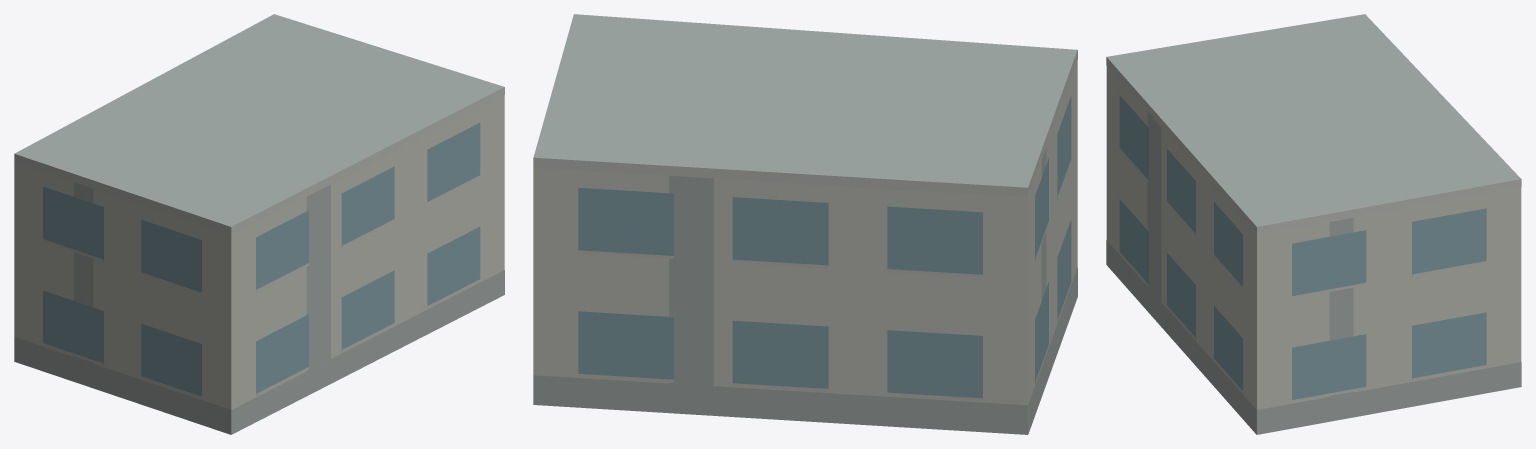
File: survey-upis-32865593.glb
3 views of the same model, side by side, from view 1: azimuth 30°, elevation 25°; view 2: azimuth 150°, elevation 25°; view 3: azimuth 270°, elevation 25° (orthographic). The views are drawn at different scales.
Visible parts, largest first — view 1: survey-upis-32865593.tmp; view 2: survey-upis-32865593.tmp; view 3: survey-upis-32865593.tmp.
Boxes of the visible parts, x1,y1,x2,y2 form: survey-upis-32865593.tmp: [14, 14, 504, 434]; survey-upis-32865593.tmp: [533, 14, 1077, 434]; survey-upis-32865593.tmp: [1106, 14, 1521, 434].
Size of the model in its own units: 13.4 by 6.1 by 11.04.
